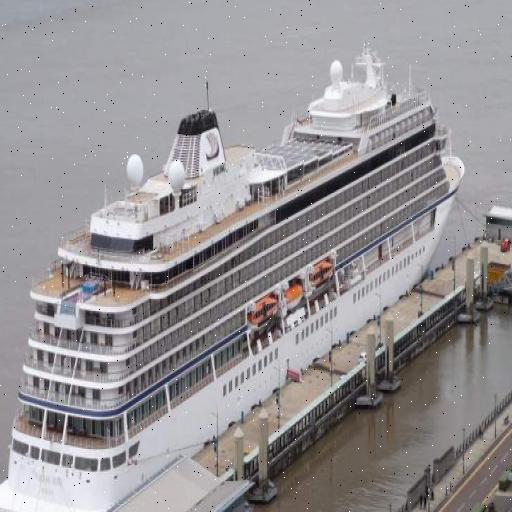cruises: (1, 45, 468, 512)
